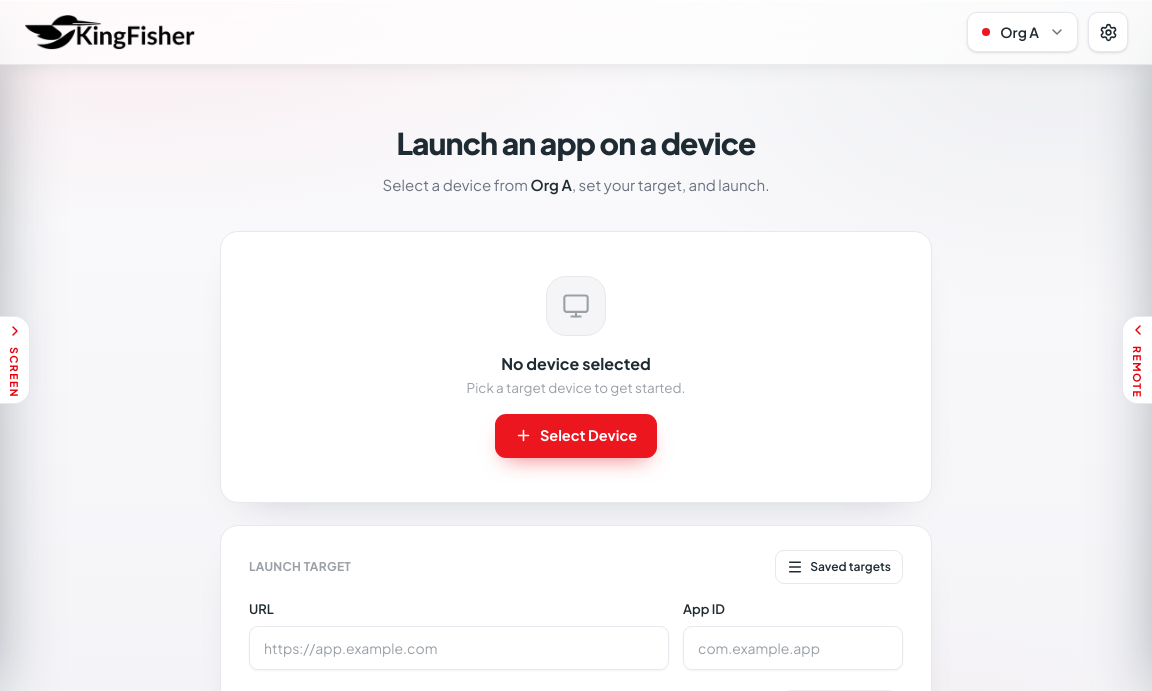
Test: App › selecting a device via the picker shows it and saves it to session storage
Click the button "Select Device". click: point(576, 436)
box: [495,414,657,458]
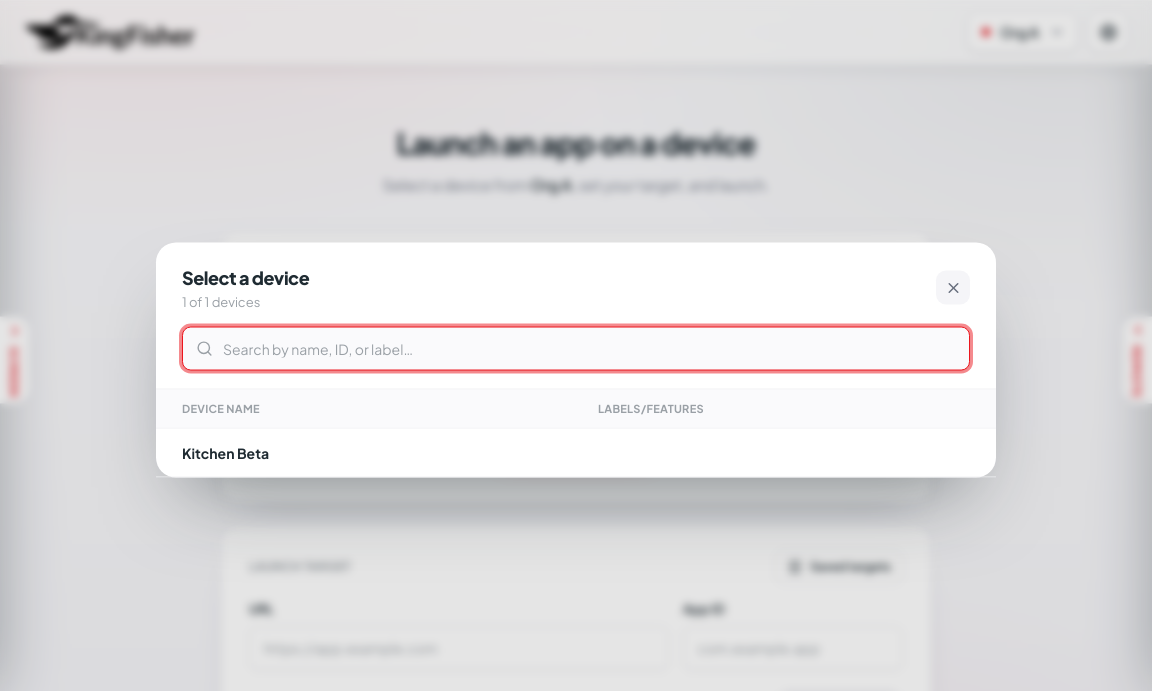
Click the text "Kitchen Beta". click: point(226, 452)
box: [182,444,269,462]
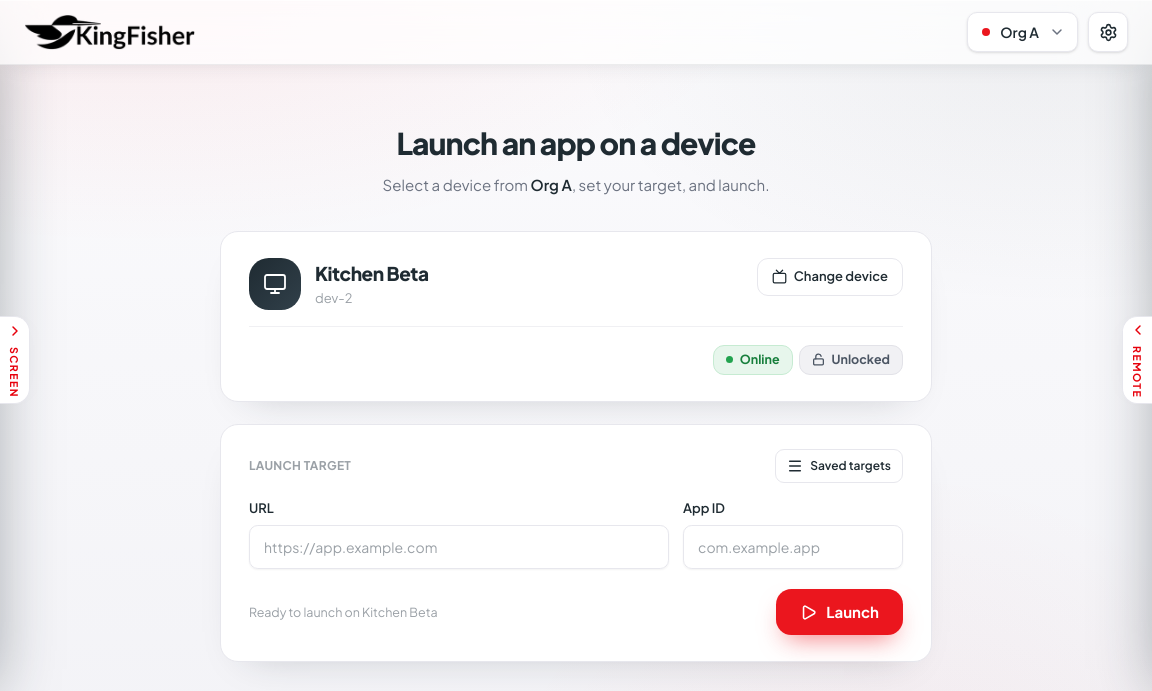
Now the text "dev-2" is shown, box [315,290,352,306]
